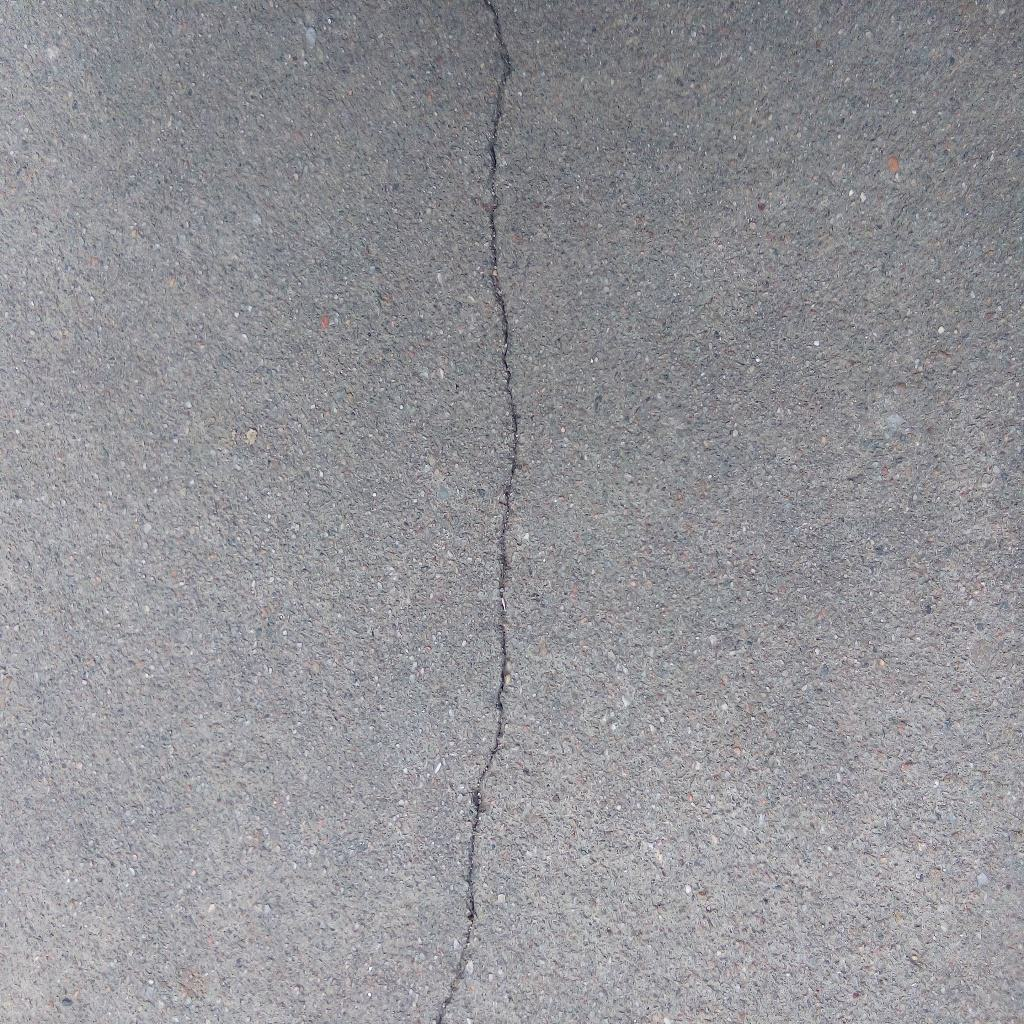Crack: (434, 1, 519, 1024)
